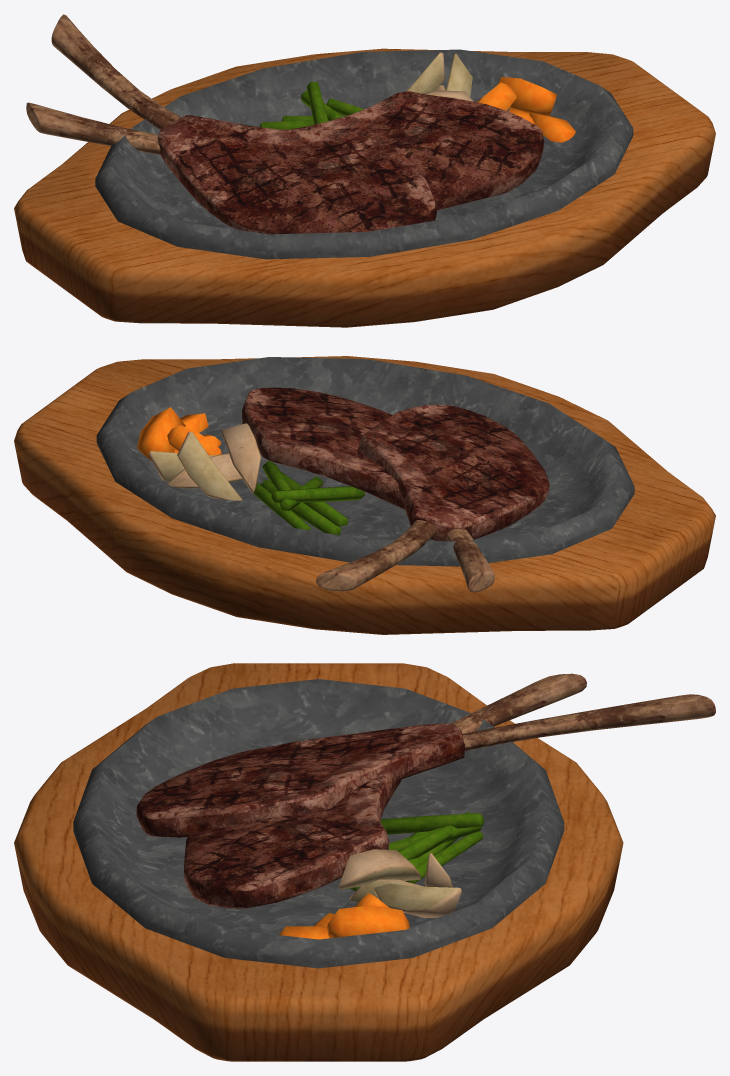
The model's file is Stake_C.fbx.
3 views of the same model, one above another, from view 1: azimuth 30°, elevation 25°; view 2: azimuth 150°, elevation 25°; view 3: azimuth 270°, elevation 25° (orthographic). The views are drawn at different scales.
Parts seen in each view (by area): view 1: Stake_C; view 2: Stake_C; view 3: Stake_C.
Boxes of the visible parts, box(x1,y1,x2,y2) form: Stake_C: box(14, 14, 715, 327); Stake_C: box(14, 356, 715, 634); Stake_C: box(14, 663, 715, 1061).
Bounding box in the file's own units: 0.5697 × 0.0956 × 0.4899.
